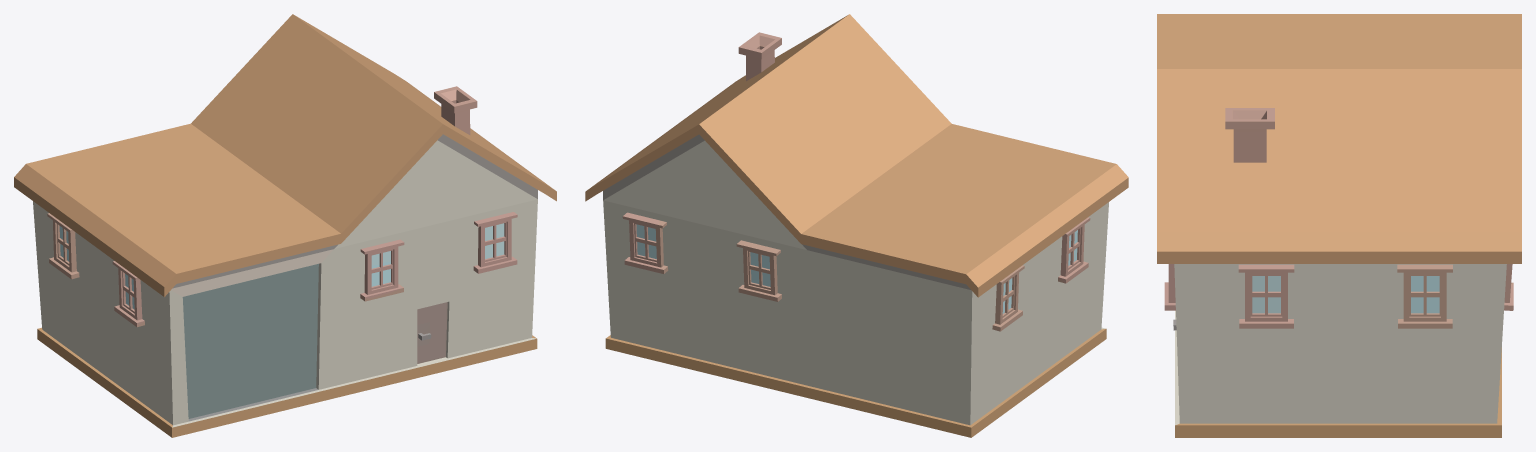
Rendered from house-q-4.glb.
3 renders of one model, left to right at view 1: azimuth 30°, elevation 25°; view 2: azimuth 150°, elevation 25°; view 3: azimuth 270°, elevation 25°, orthographic. The views are drawn at different scales.
Visible parts, largest first — view 1: House4; view 2: House4; view 3: House4.
Boxes of the visible parts, x1,y1,x2,y2 form: House4: (14, 14, 556, 437); House4: (585, 14, 1128, 437); House4: (1157, 14, 1521, 437).
Size of the model in its own units: 1 by 0.6207 by 0.6639.
Materials: 1 (1 with a texture image).
